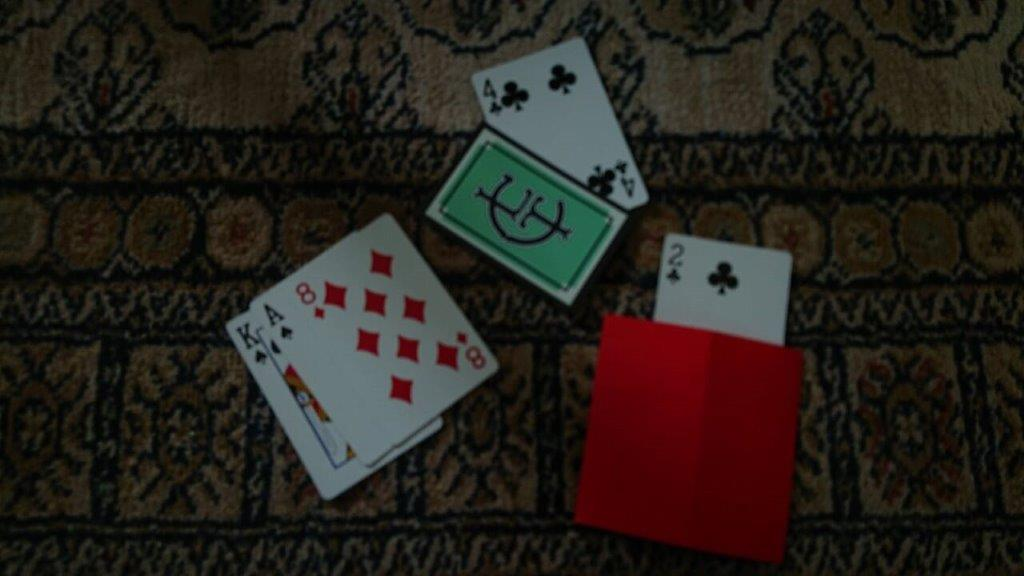2C: (663, 240, 688, 288)
4C: (477, 74, 505, 120)
8D: (293, 280, 327, 322)
AS: (259, 300, 297, 346)
KS: (232, 318, 269, 369)
